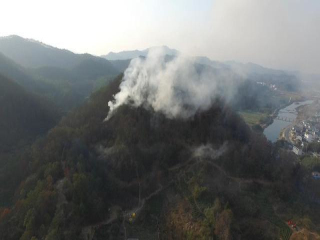smoke: (102, 24, 248, 125)
